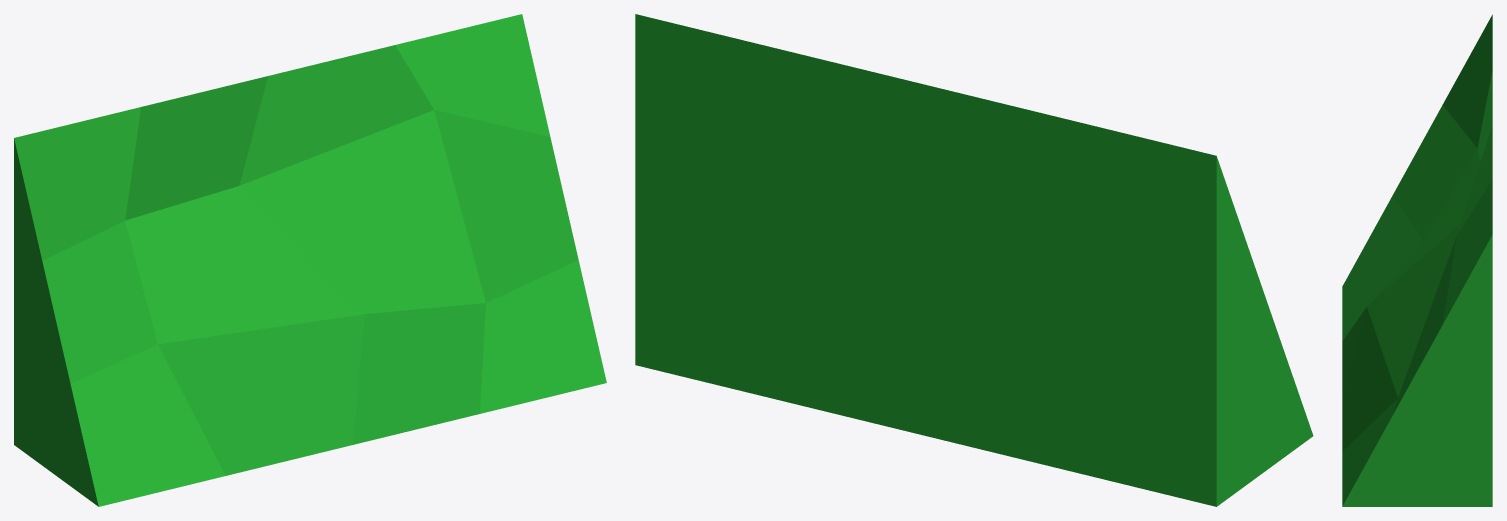
Rendered from module-edge_land_cliff_right_001.glb.
3 views of the same model, side by side, from view 1: azimuth 30°, elevation 25°; view 2: azimuth 150°, elevation 25°; view 3: azimuth 270°, elevation 25° (orthographic). The views are drawn at different scales.
Visible parts, largest first — view 1: module-edge_land_cliff_right_001; view 2: module-edge_land_cliff_right_001; view 3: module-edge_land_cliff_right_001.
Boxes of the visible parts, <box> form: module-edge_land_cliff_right_001: <box>14,14,606,506</box>; module-edge_land_cliff_right_001: <box>635,14,1313,506</box>; module-edge_land_cliff_right_001: <box>1342,14,1492,506</box>.
Bounding box in the file's own units: 0.866 × 0.5 × 0.25.
